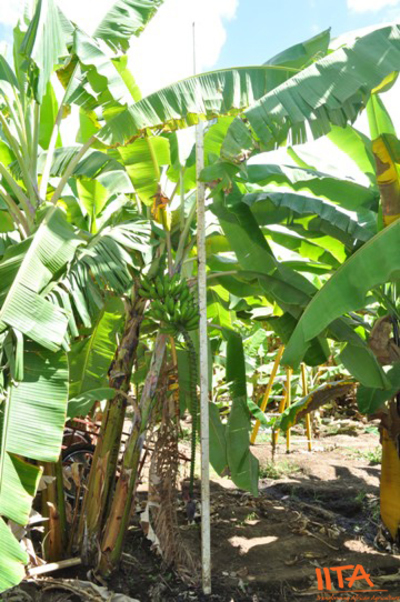bananaHand: (138, 276, 203, 333)
